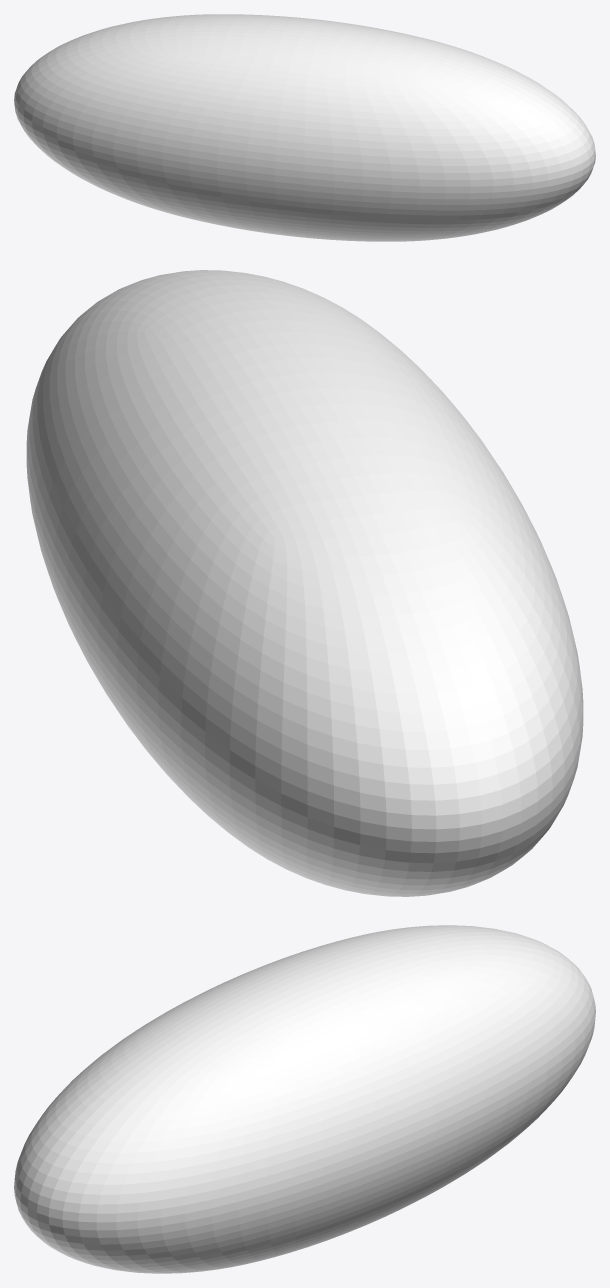
File: nudo1-3.obj
3 renders of one model, top to bottom at view 1: azimuth 30°, elevation 25°; view 2: azimuth 150°, elevation 25°; view 3: azimuth 270°, elevation 25°, orthographic. The views are drawn at different scales.
Visible parts, largest first — view 1: nudo1_3_Mesh; view 2: nudo1_3_Mesh; view 3: nudo1_3_Mesh.
Boxes of the visible parts, x1,y1,x2,y2 form: nudo1_3_Mesh: (14,14,595,241); nudo1_3_Mesh: (26,270,583,896); nudo1_3_Mesh: (14,925,595,1273).
Bounding box in the file's own units: 0.8203 × 0.3825 × 0.8203.
Materials: 1 (1 with a texture image).
